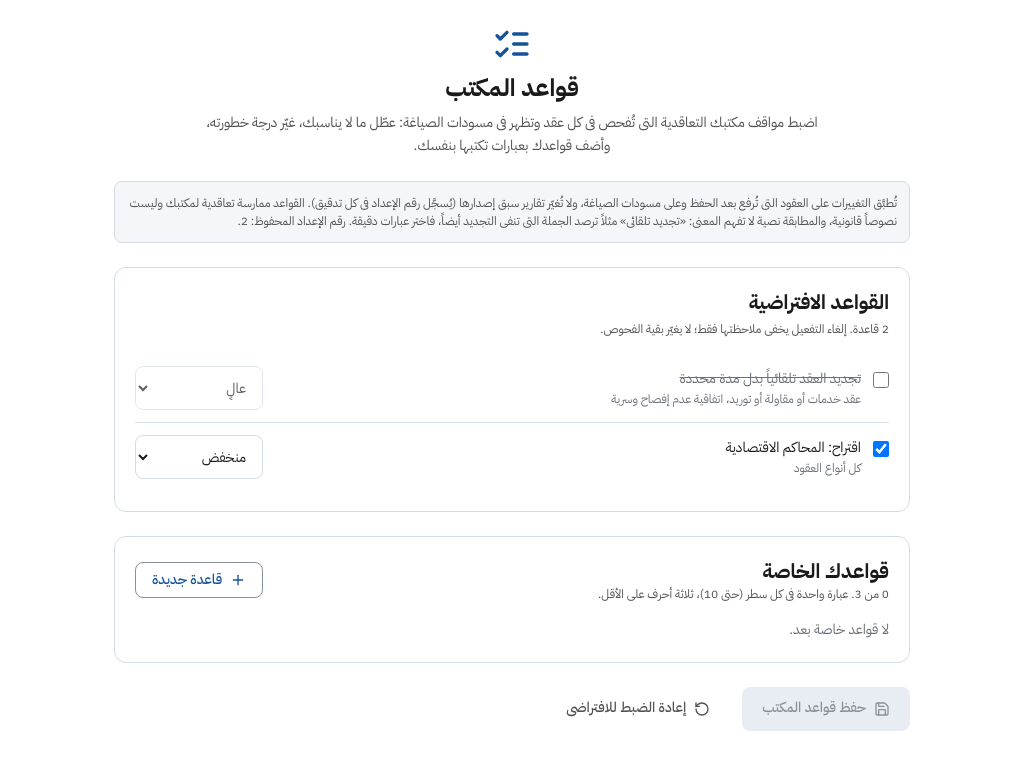
Test case: OfficePlaybookScreen › إعادة الضبط تطلب تأكيداً ثم تنفذ
Click the button "إعادة الضبط للافتراضى" at (638, 709), box [546,687,730,731]
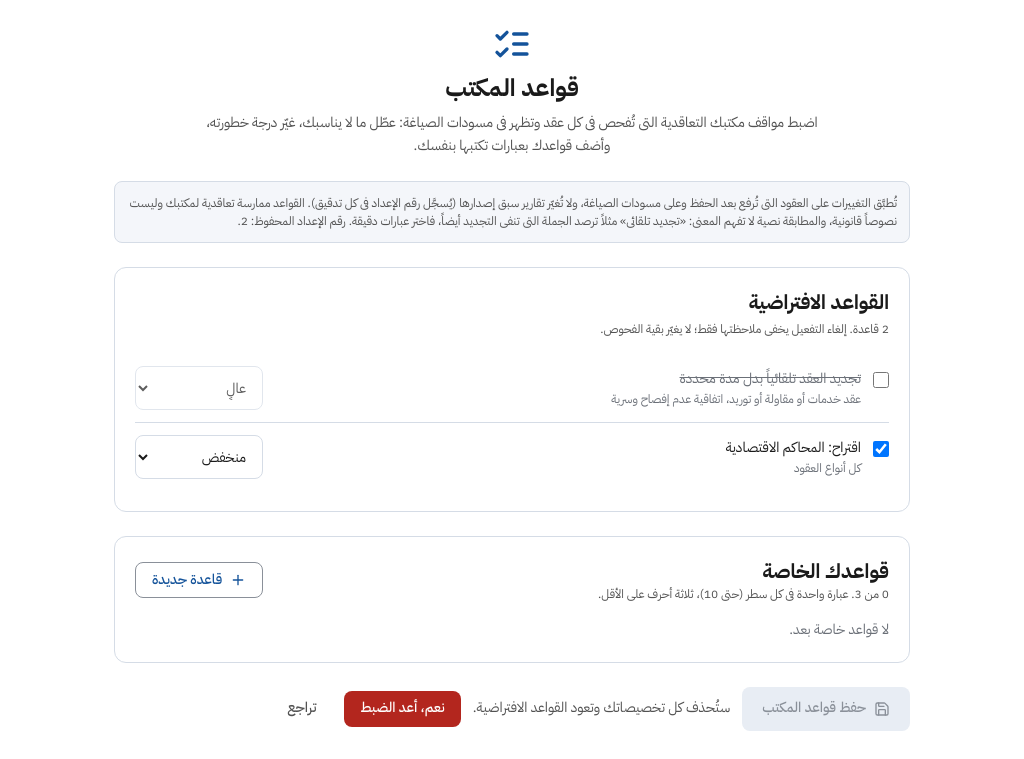
Click the button "نعم، أعد الضبط" at (403, 709), box [344,691,461,727]
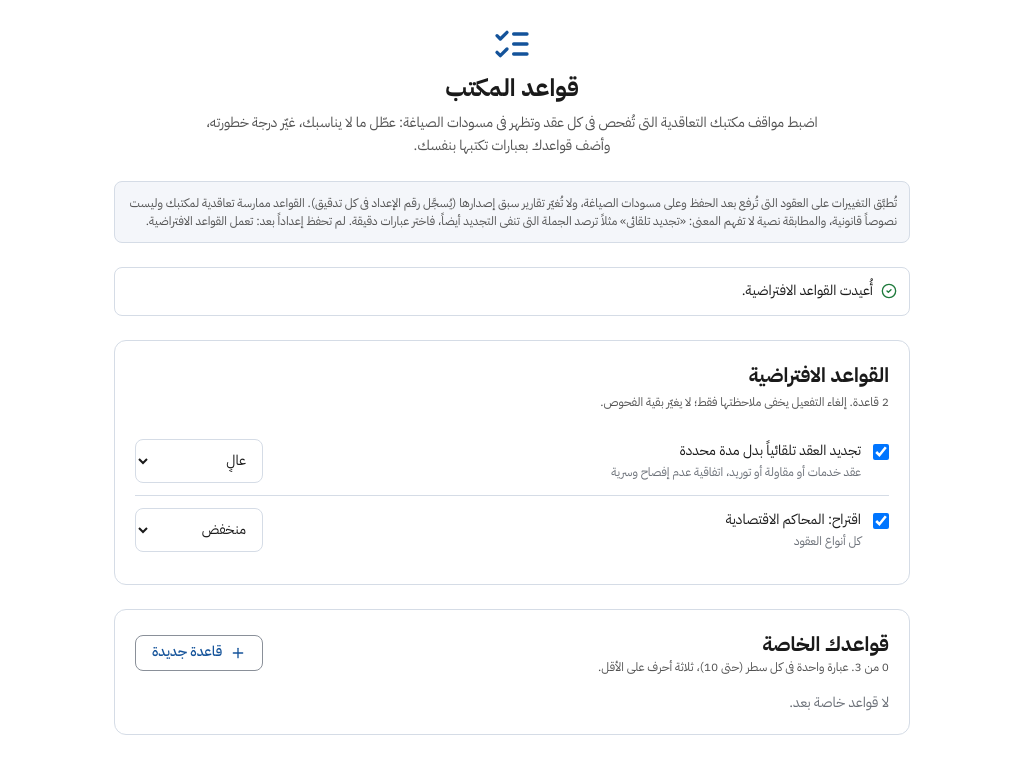
Expected: the text "أُعيدت القواعد الافتراضية." is shown, [114,267,910,316]
Expected: the checkbox named "تفعيل: تجديد العقد تلقائياً بدل مدة محددة" is checked, [873,444,889,460]
